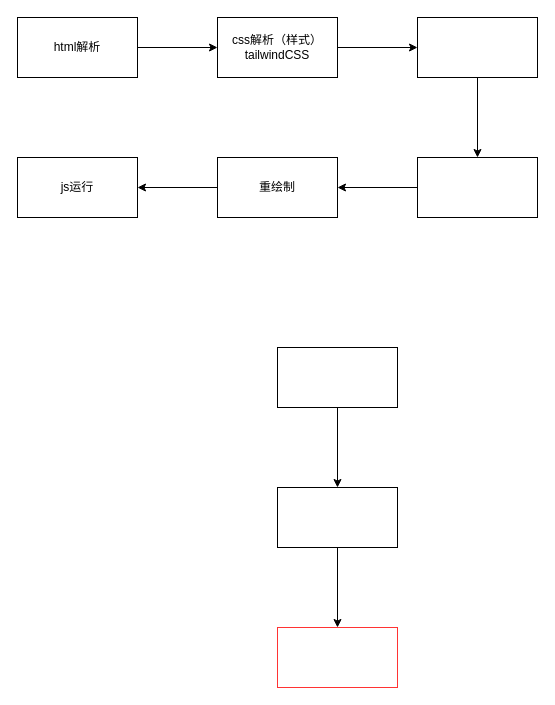
Some shapes in this 555 by 705 pixel diagram are drawn without their labels. The box of each missing label's shape, as (x1, y1, x2, y2) in pixels:
renderTree渲染树: (416, 16, 538, 78)
布局(重排): (416, 156, 538, 218)
